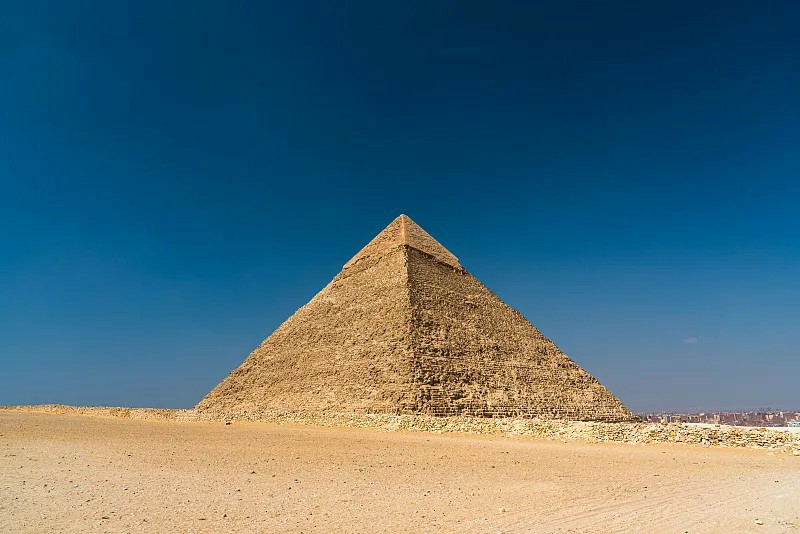Pyramid: (195, 213, 634, 421)
